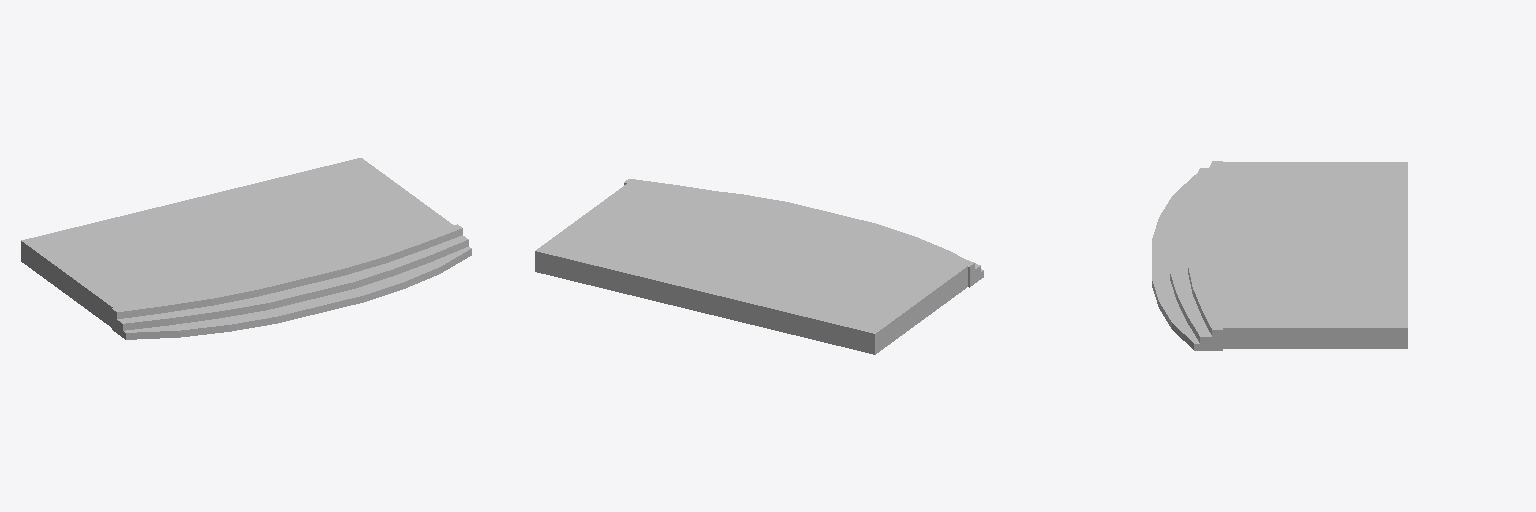
The model's file is ItemPlatform.obj.
3 renders of one model, left to right at view 1: azimuth 30°, elevation 25°; view 2: azimuth 150°, elevation 25°; view 3: azimuth 270°, elevation 25°, orthographic.
Visible parts, largest first — view 1: ItemPlatform; view 2: ItemPlatform; view 3: ItemPlatform.
Part boxes in pixels (x1,y1,x2,y2): ItemPlatform: (21, 158, 471, 339); ItemPlatform: (535, 179, 983, 354); ItemPlatform: (1152, 161, 1407, 350).
Bounding box in the file's own units: 5.18 × 0.3 × 3.32.